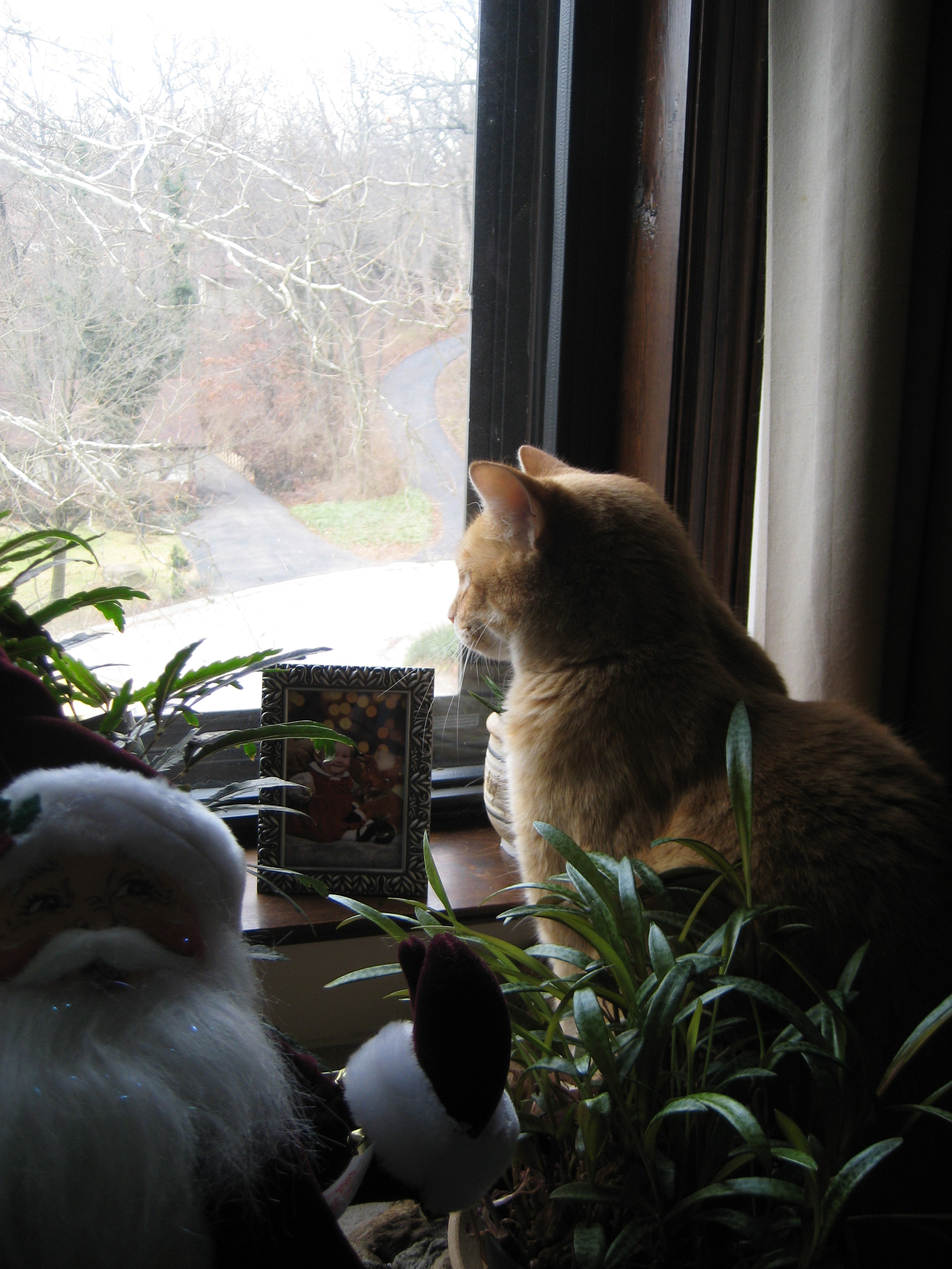cat: (420, 433, 951, 1083)
